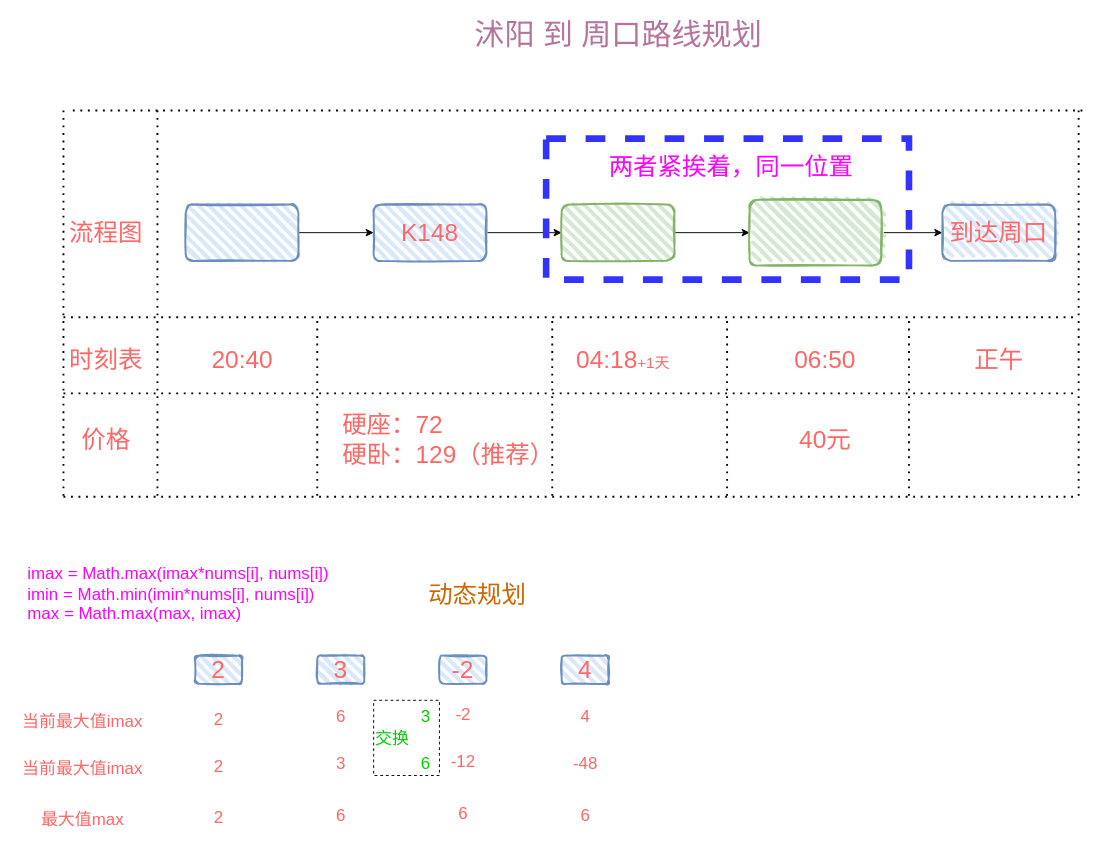
The diagram is 1105 pixels wide and 850 high, and some of its shapes have lost their labels. Each missing label, with the centre of its shape:
沭阳出发: [241,232]
郑州汽车中心站: [815,232]
郑州站: [617,232]
